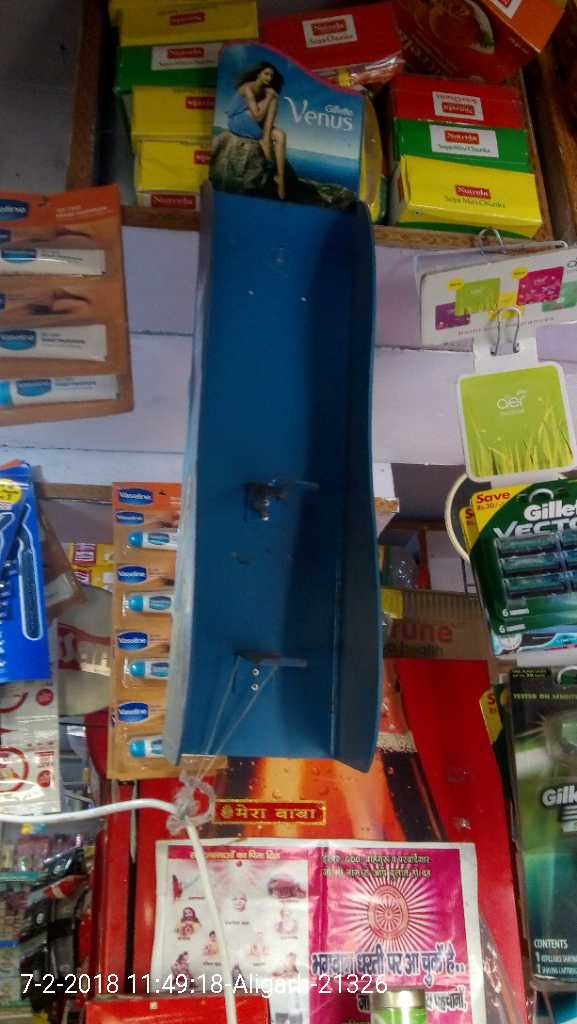gillette: (473, 475, 577, 659)
